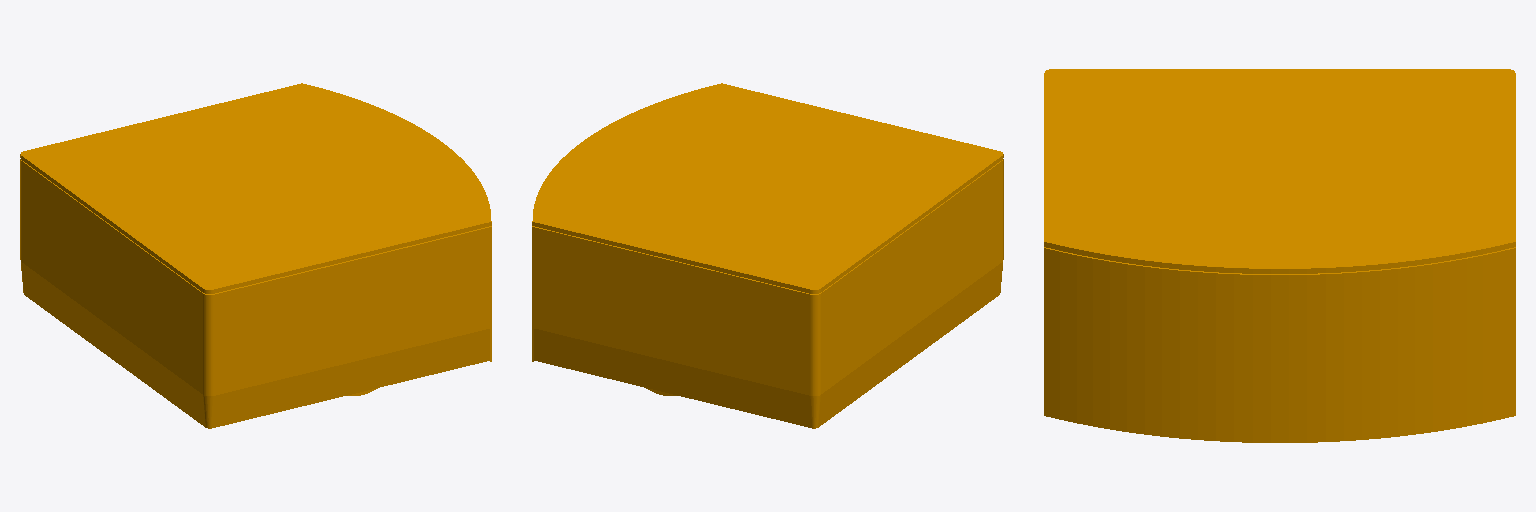
The robot description file, URDF, robot "mobile_base_mkii":
<?xml version="1.0" ?>
<!-- =================================================================================== -->
<!-- |    This document was autogenerated by xacro from mobile_base_mkii.xacro         | -->
<!-- |    EDITING THIS FILE BY HAND IS NOT RECOMMENDED                                 | -->
<!-- =================================================================================== -->
<robot name="mobile_base_mkii" xmlns:xacro="http://www.ros.org/wiki/xacro">
  <link name="base_link">
    <visual>
      <origin rpy="0 0 1.5707963268" xyz="0 0 0.12065"/>
      <geometry>
        <mesh filename="package://mobile_base/urdf/meshes/mobile_base_mkii.stl" scale="1 1 1.18"/>
      </geometry>
      <material name="black">
        <color rgb="0 0 0"/>
      </material>
    </visual>
  </link>
</robot>

--- What the picture shows (computed from the rendered views, not written in the file) ---
Views: 3 orthographic renders of the robot side by side, from view 1: azimuth 30°, elevation 25°; view 2: azimuth 150°, elevation 25°; view 3: azimuth 270°, elevation 25°.
Model mobile_base_mkii with 1 links and 0 joints (none), rooted at base_link, posed all joints at 0.
Links seen in each view (by area): view 1: base_link; view 2: base_link; view 3: base_link.
Boxes of the visible links, box(x1,y1,x2,y2) form: base_link: box(20, 83, 491, 428); base_link: box(532, 83, 1003, 428); base_link: box(1044, 69, 1515, 442).
Size in the robot's own frame: 0.6127 by 0.6096 by 0.2728 metres.
1 mesh visuals loaded from 1 distinct referenced files (1 binary STL).